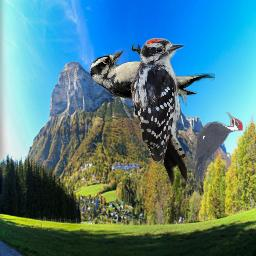Woodpecker: (129, 38, 187, 186), (90, 44, 215, 99), (183, 112, 244, 183)
